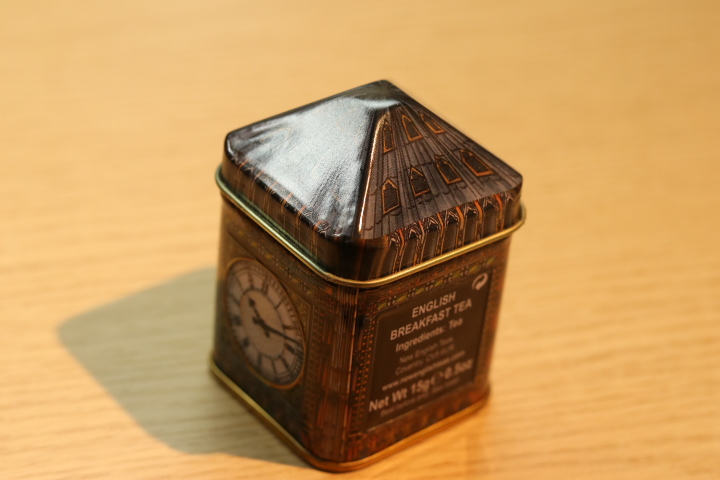Big Ben: (190, 70, 540, 480)
